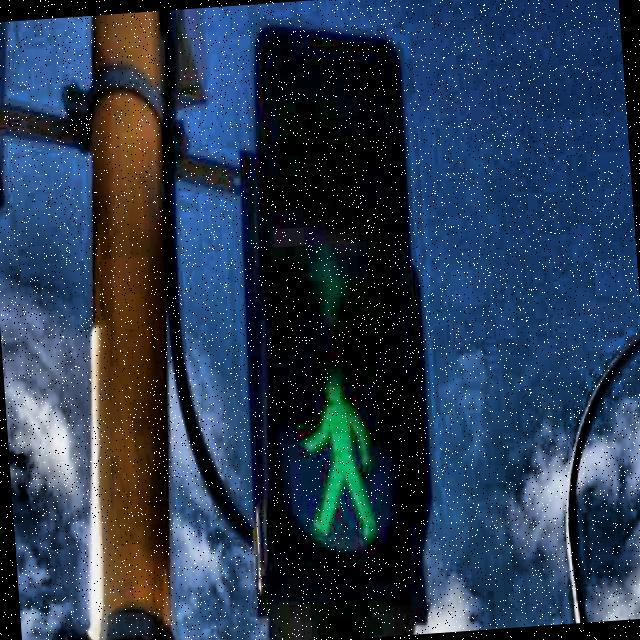green_light: (298, 377, 380, 552)
